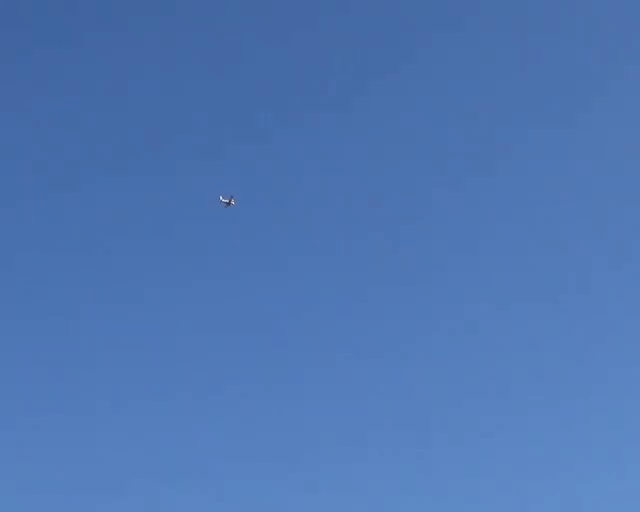AIRPLANE: (219, 194, 235, 207)
